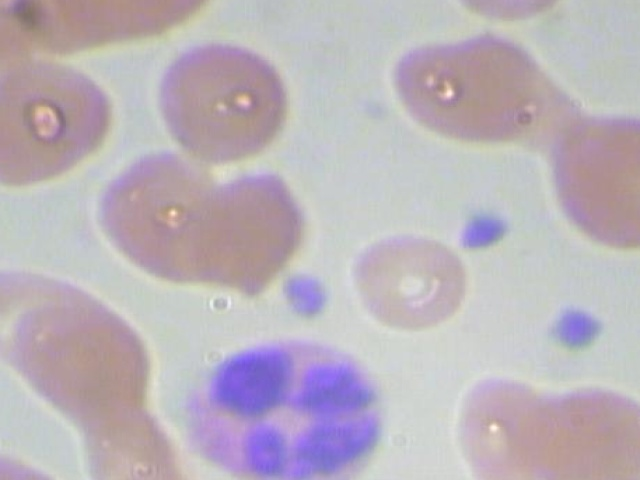Platelets: (535, 300, 612, 352), (276, 270, 341, 326), (451, 208, 513, 261)
RBC: (0, 290, 162, 431), (175, 164, 318, 301), (144, 37, 292, 168), (382, 26, 541, 146), (0, 51, 120, 197), (336, 229, 482, 339), (546, 109, 640, 257), (522, 374, 640, 480), (435, 0, 582, 28)
WBC: (172, 333, 397, 480)
